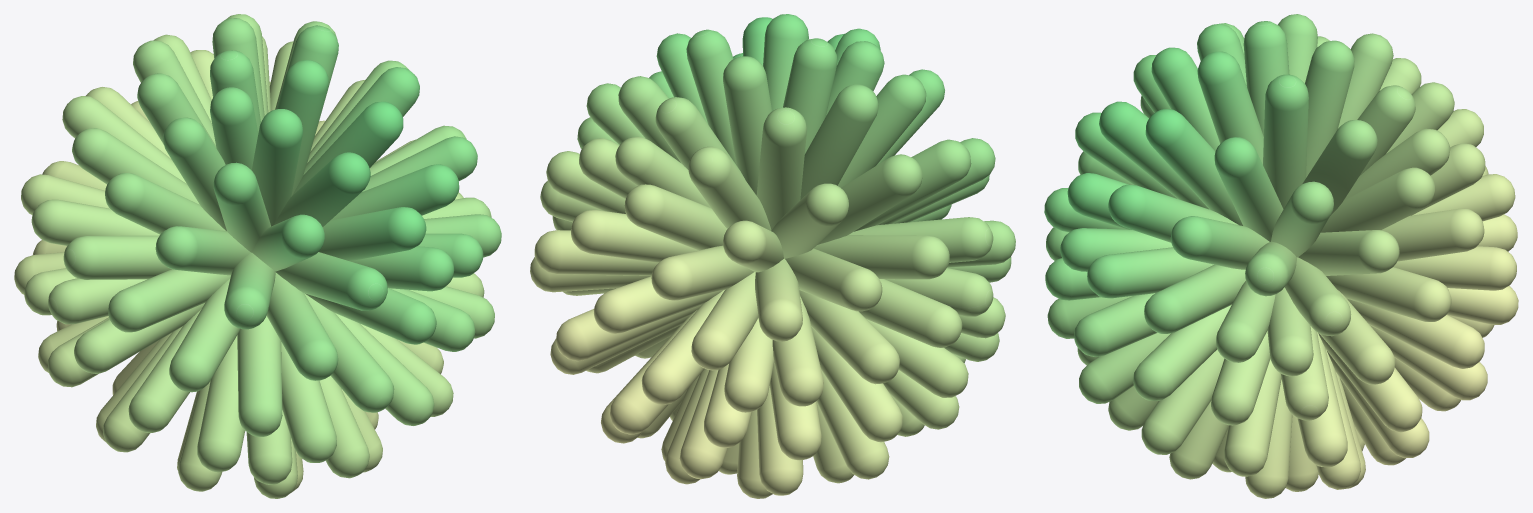
The model's file is 01_bloomspire_static.glb.
The picture shows the model from 3 angles, left to right: view 1: azimuth 30°, elevation 25°; view 2: azimuth 150°, elevation 25°; view 3: azimuth 270°, elevation 25°; orthographic projection.
Parts seen in each view (by area): view 1: Cloner.5; view 2: Cloner.5; view 3: Cloner.5.
Boxes of the visible parts, <box> form: Cloner.5: <box>14,14,501,498</box>; Cloner.5: <box>530,14,1015,498</box>; Cloner.5: <box>1044,14,1518,498</box>.
Size of the model in its own units: 0.0979 by 0.0962 by 0.0955.
Materials: 1 (1 with a texture image).
